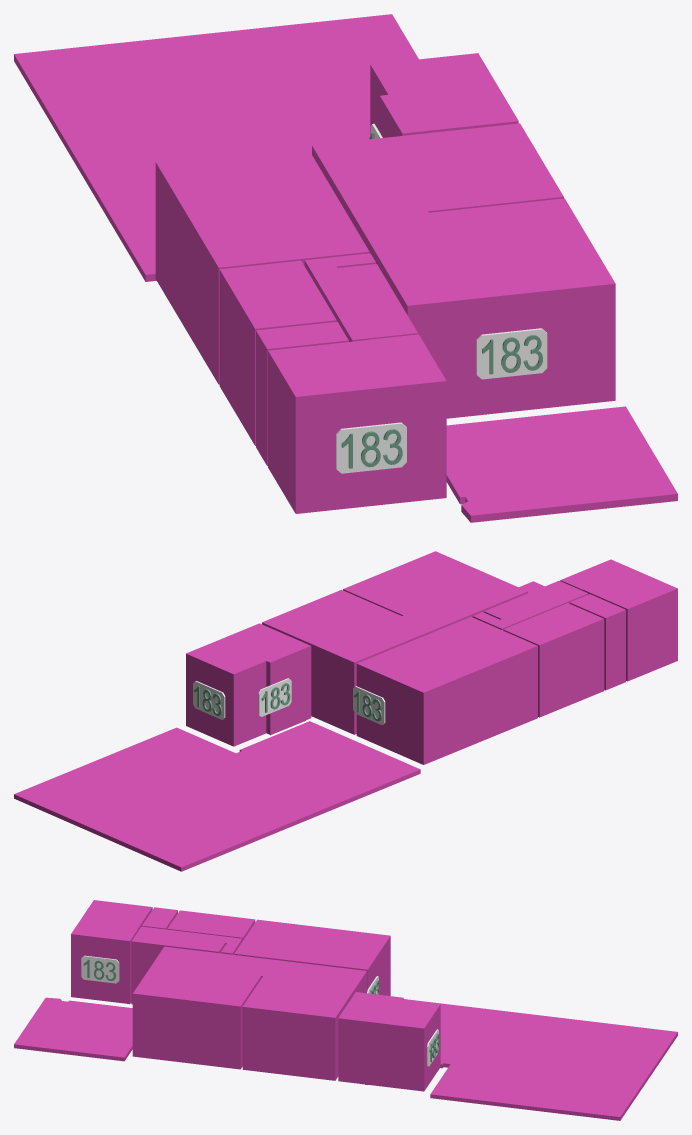
3 renders of one model, top to bottom at view 1: azimuth 30°, elevation 25°; view 2: azimuth 150°, elevation 25°; view 3: azimuth 270°, elevation 25°, orthographic. The views are drawn at different scales.
Visible parts, largest first — view 1: g_9, g_4, g_2, g_1, g_8, g_3, g_6, g_0, g_5, g_7, g_33, g_21; view 2: g_9, g_1, g_0, g_3, g_4, g_6, g_2, g_5, g_7, g_25, g_17, g_29; view 3: g_9, g_4, g_3, g_0, g_1, g_8, g_2, g_5, g_6, g_13, g_7.
Part boxes in pixels (left/top/right/bottom): g_9: left=14, top=14, right=418, bottom=281; g_4: left=356, top=198, right=615, bottom=418; g_2: left=268, top=334, right=446, bottom=513; g_1: left=155, top=146, right=369, bottom=384; g_8: left=446, top=406, right=677, bottom=522; g_3: left=312, top=123, right=563, bottom=229; g_6: left=219, top=260, right=336, bottom=445; g_0: left=370, top=53, right=518, bottom=137; g_5: left=304, top=253, right=417, bottom=341; g_7: left=256, top=321, right=348, bottom=465; g_33: left=476, top=328, right=547, bottom=379; g_21: left=336, top=422, right=406, bottom=473; g_9: left=14, top=721, right=420, bottom=871; g_1: left=356, top=617, right=537, bottom=764; g_0: left=186, top=623, right=311, bottom=746; g_3: left=262, top=590, right=435, bottom=734; g_4: left=343, top=551, right=527, bottom=630; g_6: left=503, top=603, right=604, bottom=717; g_2: left=560, top=559, right=677, bottom=681; g_5: left=472, top=580, right=588, bottom=630; g_7: left=569, top=594, right=625, bottom=690; g_25: left=258, top=678, right=291, bottom=716; g_17: left=193, top=681, right=225, bottom=719; g_29: left=353, top=686, right=385, bottom=724; g_9: left=403, top=999, right=677, bottom=1120; g_4: left=132, top=946, right=271, bottom=1069; g_3: left=242, top=959, right=366, bottom=1080; g_0: left=338, top=992, right=440, bottom=1091; g_1: left=234, top=919, right=390, bottom=995; g_8: left=14, top=997, right=132, bottom=1061; g_2: left=71, top=900, right=152, bottom=1004; g_5: left=131, top=926, right=242, bottom=1004; g_6: left=167, top=910, right=255, bottom=941; g_13: left=81, top=955, right=119, bottom=983; g_7: left=142, top=907, right=177, bottom=929.
Size of the model in its own units: 13.01 by 2.65 by 23.73.
